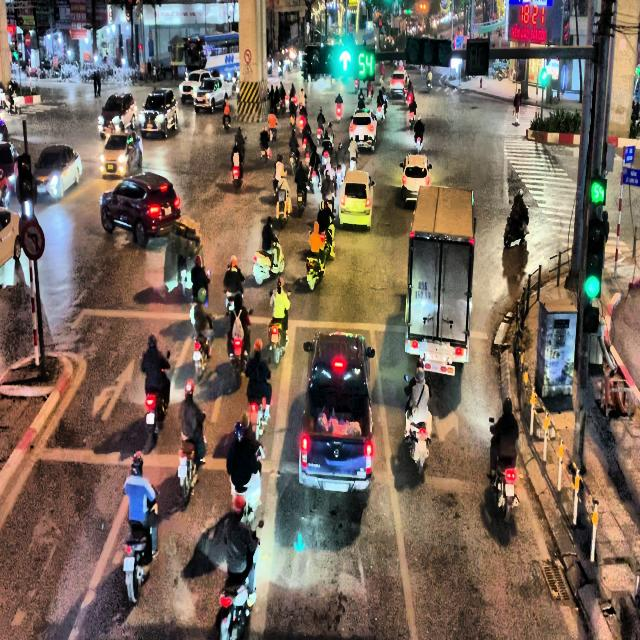lisence_plate: (414, 279, 433, 303), (321, 478, 349, 493), (426, 348, 446, 364), (165, 206, 173, 219), (360, 137, 365, 141)
